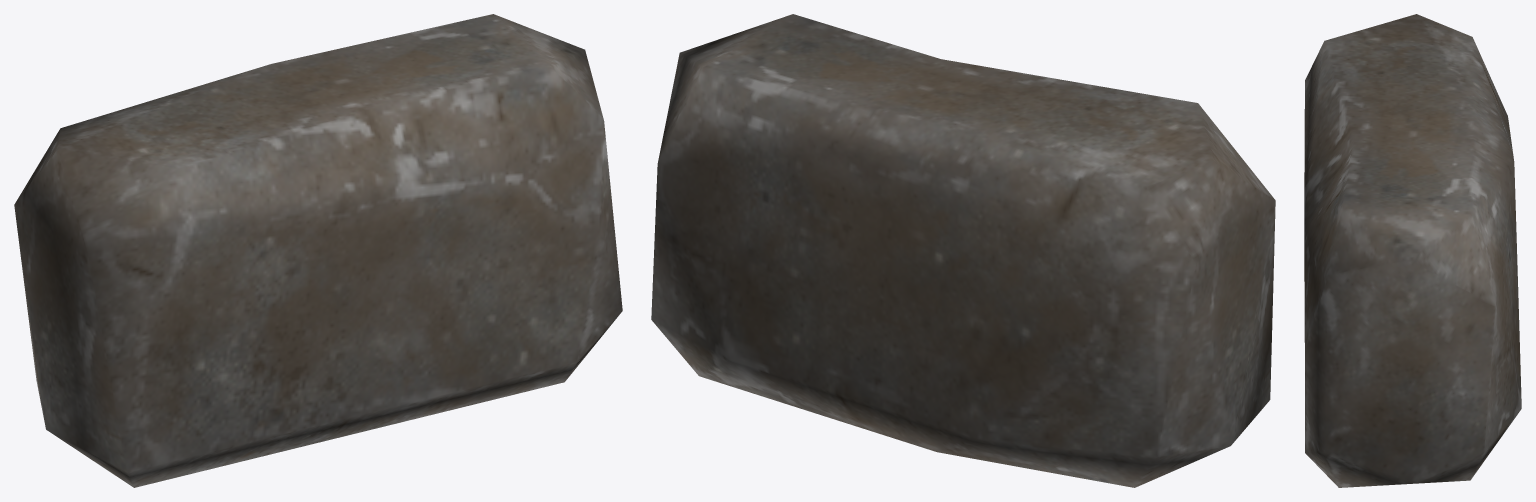
The model's file is SM_Brick_00.fbx.
The picture shows the model from 3 angles, left to right: view 1: azimuth 30°, elevation 25°; view 2: azimuth 150°, elevation 25°; view 3: azimuth 270°, elevation 25°; orthographic projection. The views are drawn at different scales.
Visible parts, largest first — view 1: SM_Brick_01; view 2: SM_Brick_01; view 3: SM_Brick_01.
Boxes of the visible parts, left/top/right/bottom form: SM_Brick_01: left=14, top=14, right=622, bottom=487; SM_Brick_01: left=651, top=14, right=1275, bottom=487; SM_Brick_01: left=1304, top=14, right=1521, bottom=487.
Bounding box in the file's own units: 27.72 × 15.62 × 11.02.
1 material, 1 textured.
